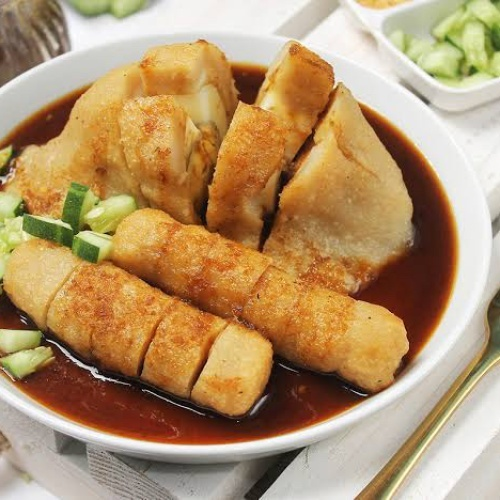pempek: (1, 38, 412, 419)
